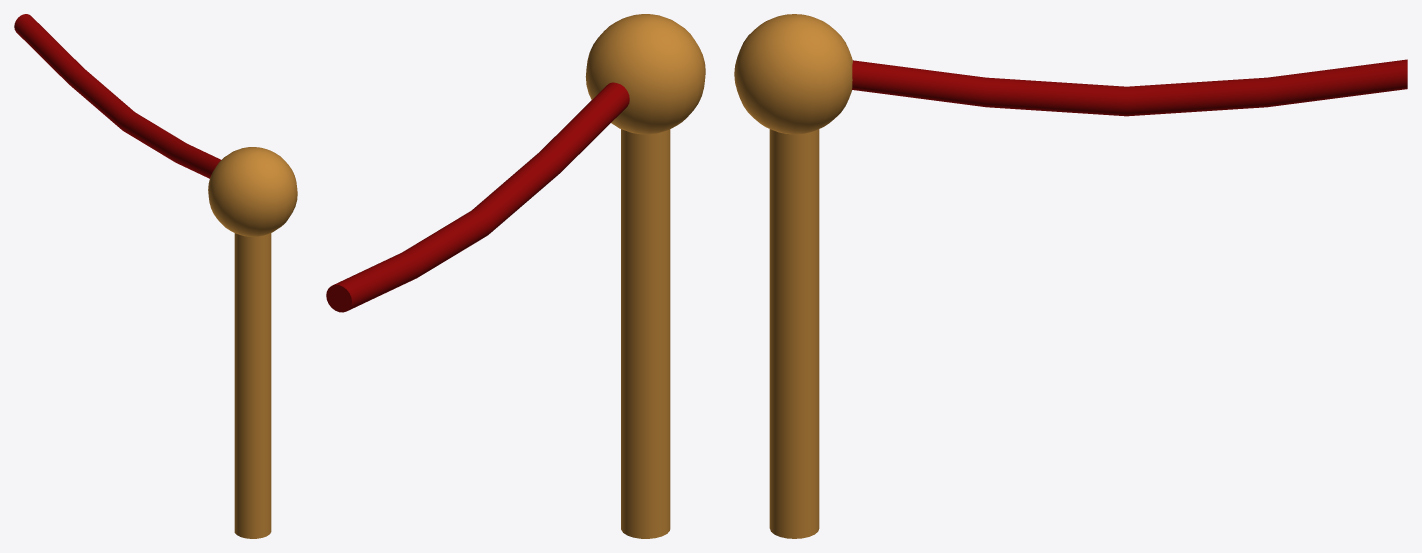
The model's file is Carpet_Side_Part.fbx.
The picture shows the model from 3 angles, left to right: view 1: azimuth 30°, elevation 25°; view 2: azimuth 150°, elevation 25°; view 3: azimuth 270°, elevation 25°; orthographic projection. The views are drawn at different scales.
Parts seen in each view (by area): view 1: Carpet_Pillar, Carpet_Rope; view 2: Carpet_Pillar, Carpet_Rope; view 3: Carpet_Pillar, Carpet_Rope.
Part boxes in pixels (box(x1,y1,x2,y2)): Carpet_Pillar: box(208, 147, 297, 538); Carpet_Rope: box(14, 14, 220, 178); Carpet_Pillar: box(585, 14, 705, 538); Carpet_Rope: box(326, 82, 629, 312); Carpet_Pillar: box(734, 14, 852, 538); Carpet_Rope: box(852, 59, 1407, 116).
Bounding box in the file's own units: 13.2 × 61.46 × 73.7.
